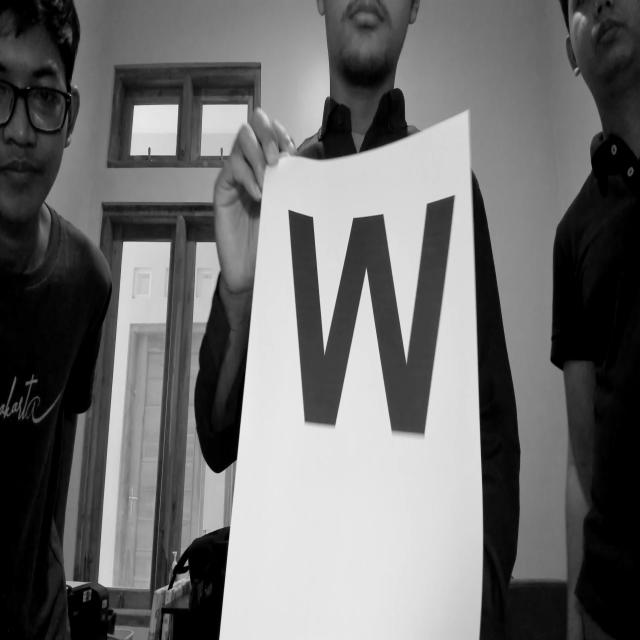w: (278, 188, 463, 446)
